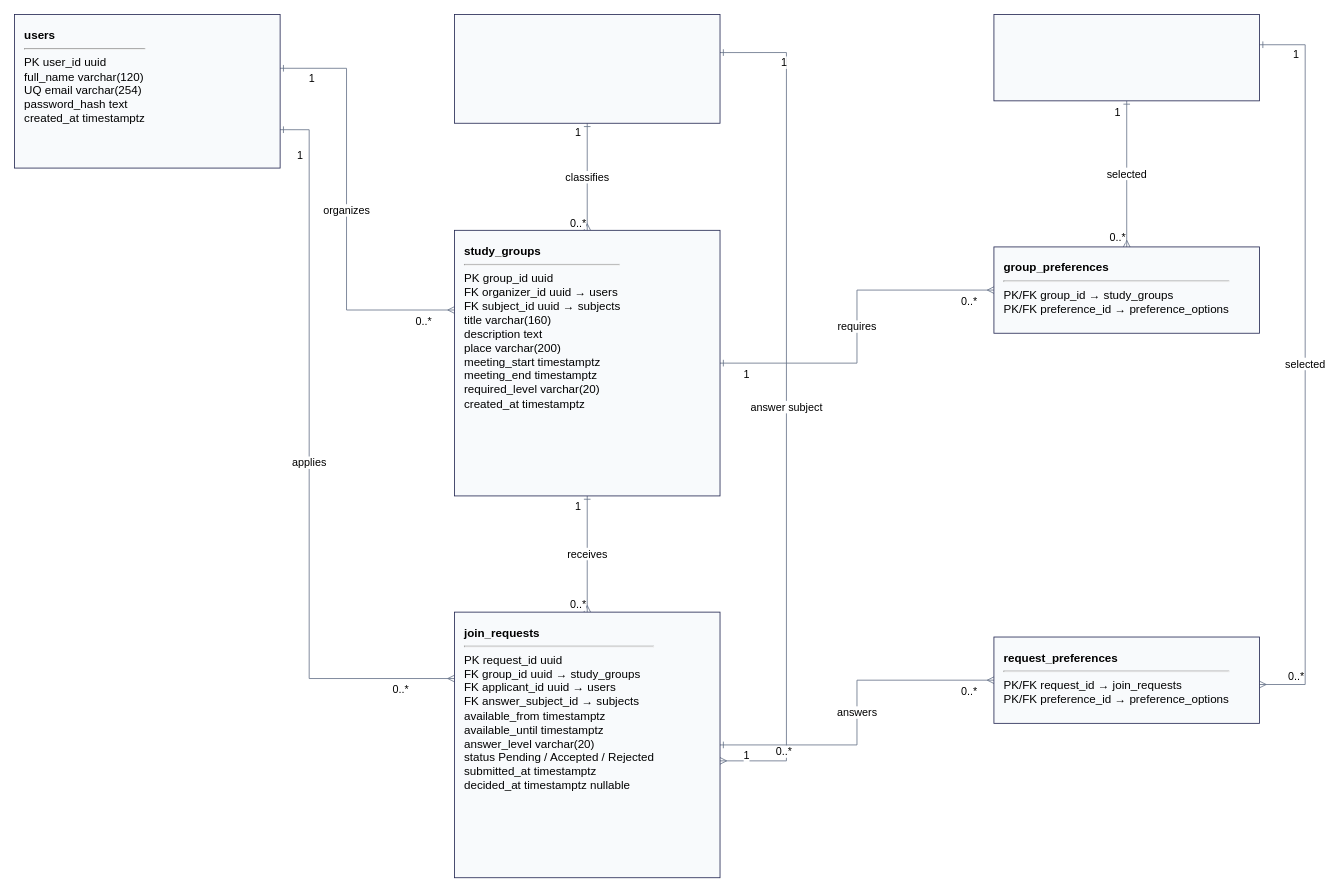
Some shapes in this 1340 by 892 pixel diagram are drawn without their labels. The shapes that lost their labels are listed below. From the top down, each one's centre as x and y in pixels, then its label:
[587,68]: subjects PK subject_id uuid UQ course_code varchar(30) name varchar(120)
[1126,57]: preference_options PK preference_id uuid UQ label varchar(80)
